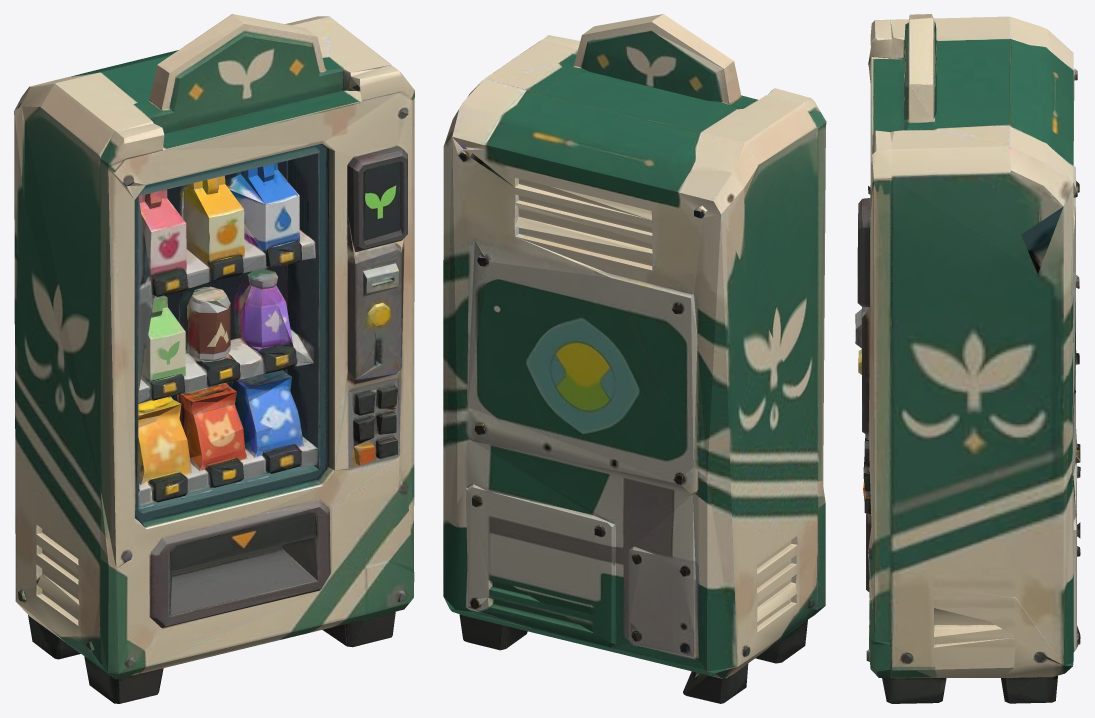
File: vending-machine.glb
3 renders of one model, left to right at view 1: azimuth 30°, elevation 25°; view 2: azimuth 150°, elevation 25°; view 3: azimuth 270°, elevation 25°, orthographic. The views are drawn at different scales.
Visible parts, largest first — view 1: output_unwrapped; view 2: output_unwrapped; view 3: output_unwrapped.
Part boxes in pixels (left/top/right/bottom): output_unwrapped: left=14, top=14, right=414, bottom=703; output_unwrapped: left=443, top=14, right=826, bottom=703; output_unwrapped: left=855, top=14, right=1080, bottom=703.
Size of the model in its own units: 0.9676 by 1.9 by 0.6241.
Materials: 1 (1 with a texture image).
